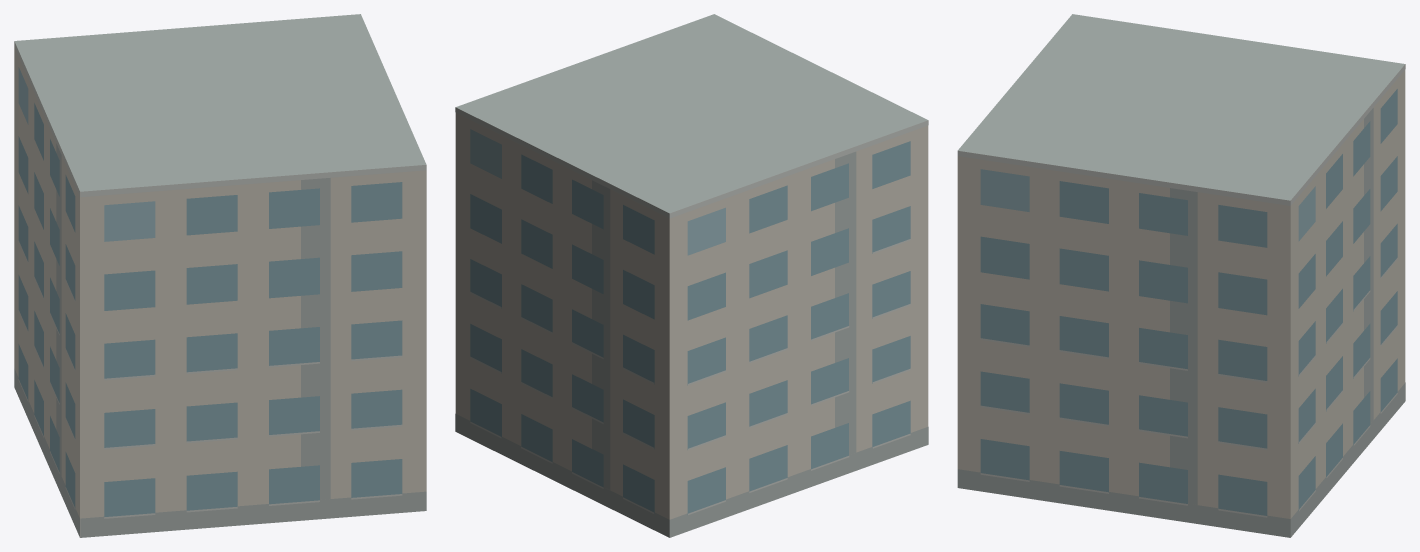
Rendered from residential-91232621-c0fa-40c0-a2df-cdd044a4009f.glb.
3 renders of one model, left to right at view 1: azimuth 30°, elevation 25°; view 2: azimuth 150°, elevation 25°; view 3: azimuth 270°, elevation 25°, orthographic. The views are drawn at different scales.
Visible parts, largest first — view 1: residential-91232621-c0fa-40c0-a2df-cdd044a4009f.tmp; view 2: residential-91232621-c0fa-40c0-a2df-cdd044a4009f.tmp; view 3: residential-91232621-c0fa-40c0-a2df-cdd044a4009f.tmp.
Boxes of the visible parts, x1,y1,x2,y2 form: residential-91232621-c0fa-40c0-a2df-cdd044a4009f.tmp: (14, 14, 426, 537); residential-91232621-c0fa-40c0-a2df-cdd044a4009f.tmp: (455, 14, 928, 537); residential-91232621-c0fa-40c0-a2df-cdd044a4009f.tmp: (957, 14, 1405, 537).
Size of the model in its own units: 18.11 by 15.25 by 18.37.
